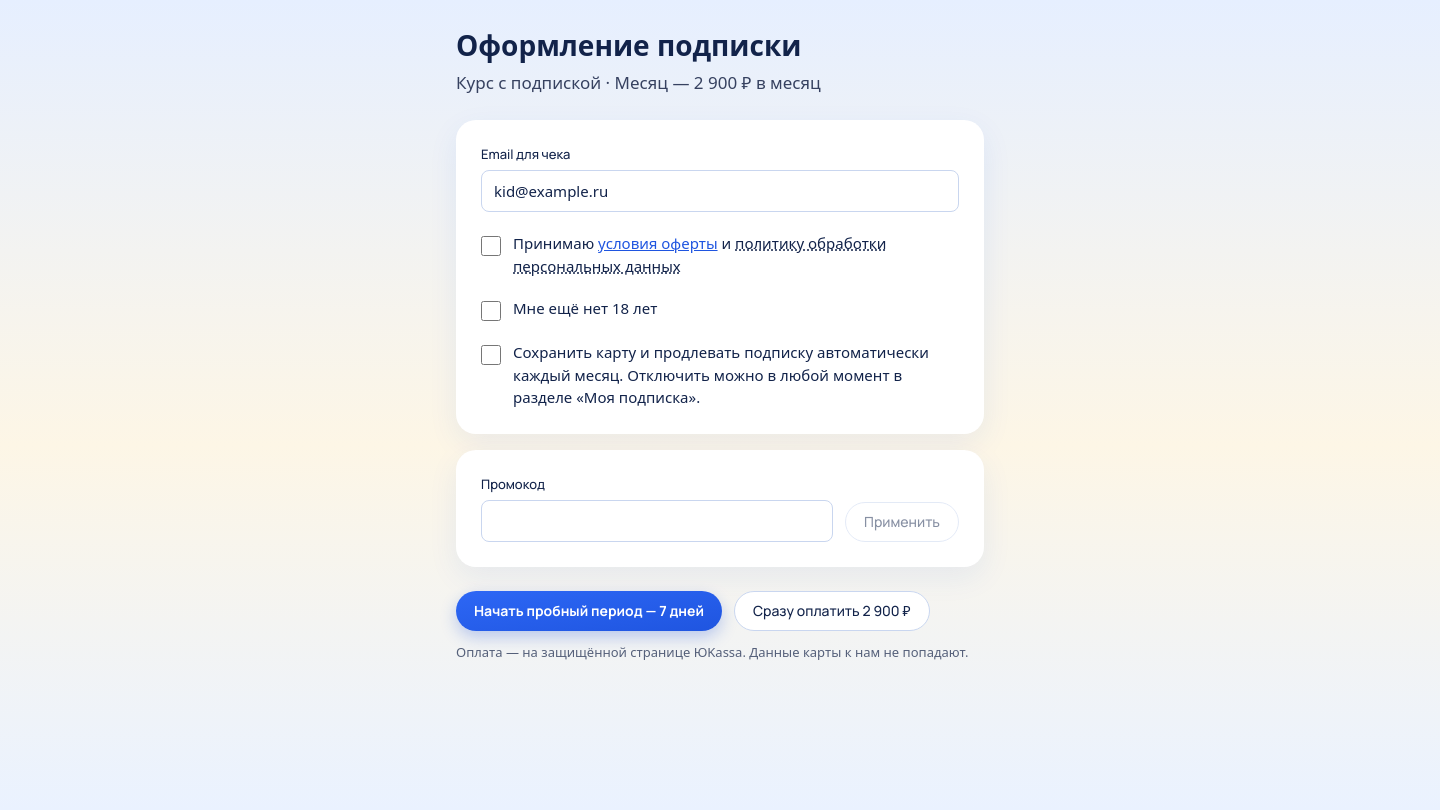
it: оформление › без согласия с офертой не платим; карта по умолчанию НЕ сохраняется
Expected: the checkbox with test id "checkout-save-card" is not checked, x1=481 y1=345 x2=501 y2=365
Click the button with test id "checkout-pay".
click(832, 611)  # box x1=734 y1=591 x2=930 y2=631
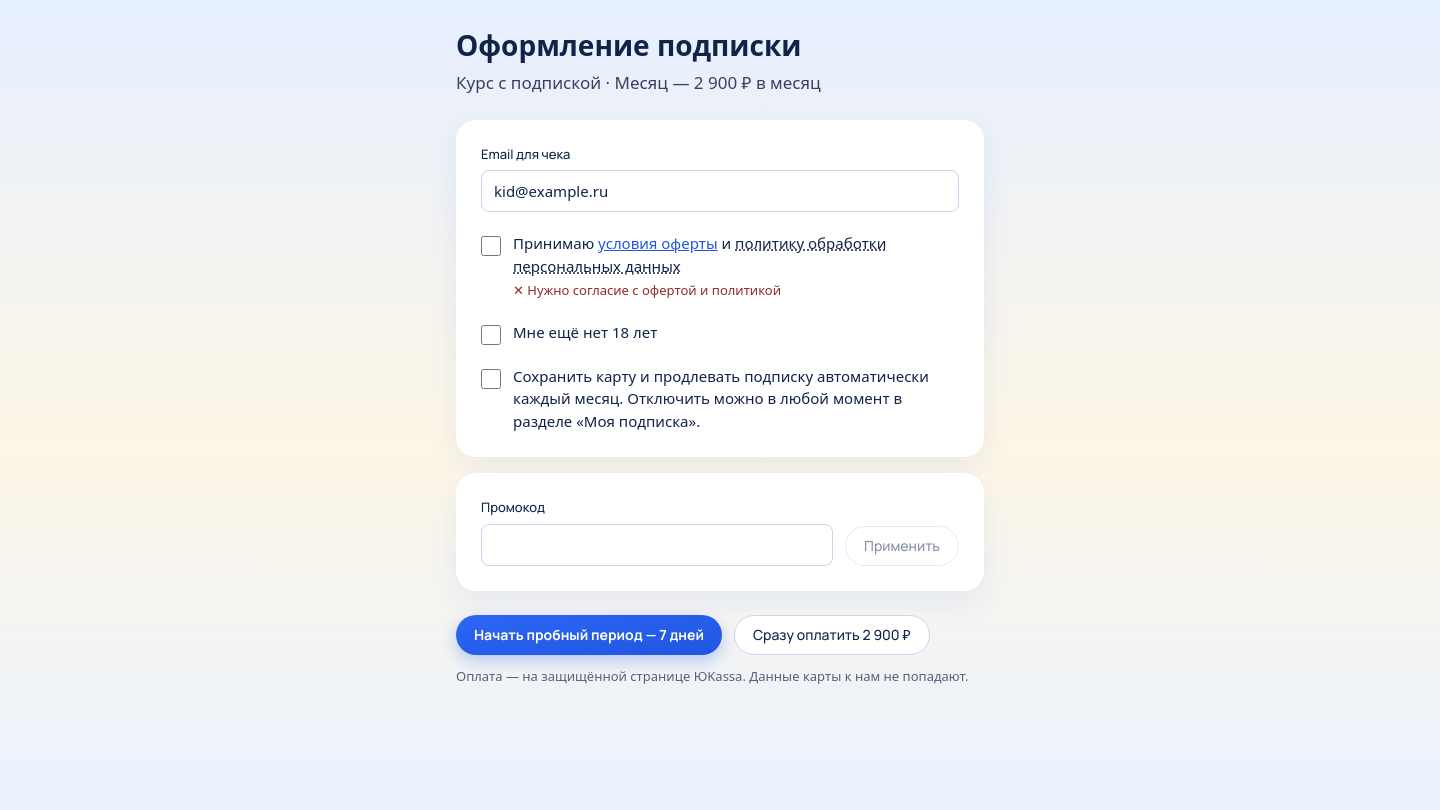
Expected: the text "✕ Нужно согласие с офертой и политикой" is shown, x1=513 y1=281 x2=781 y2=299
